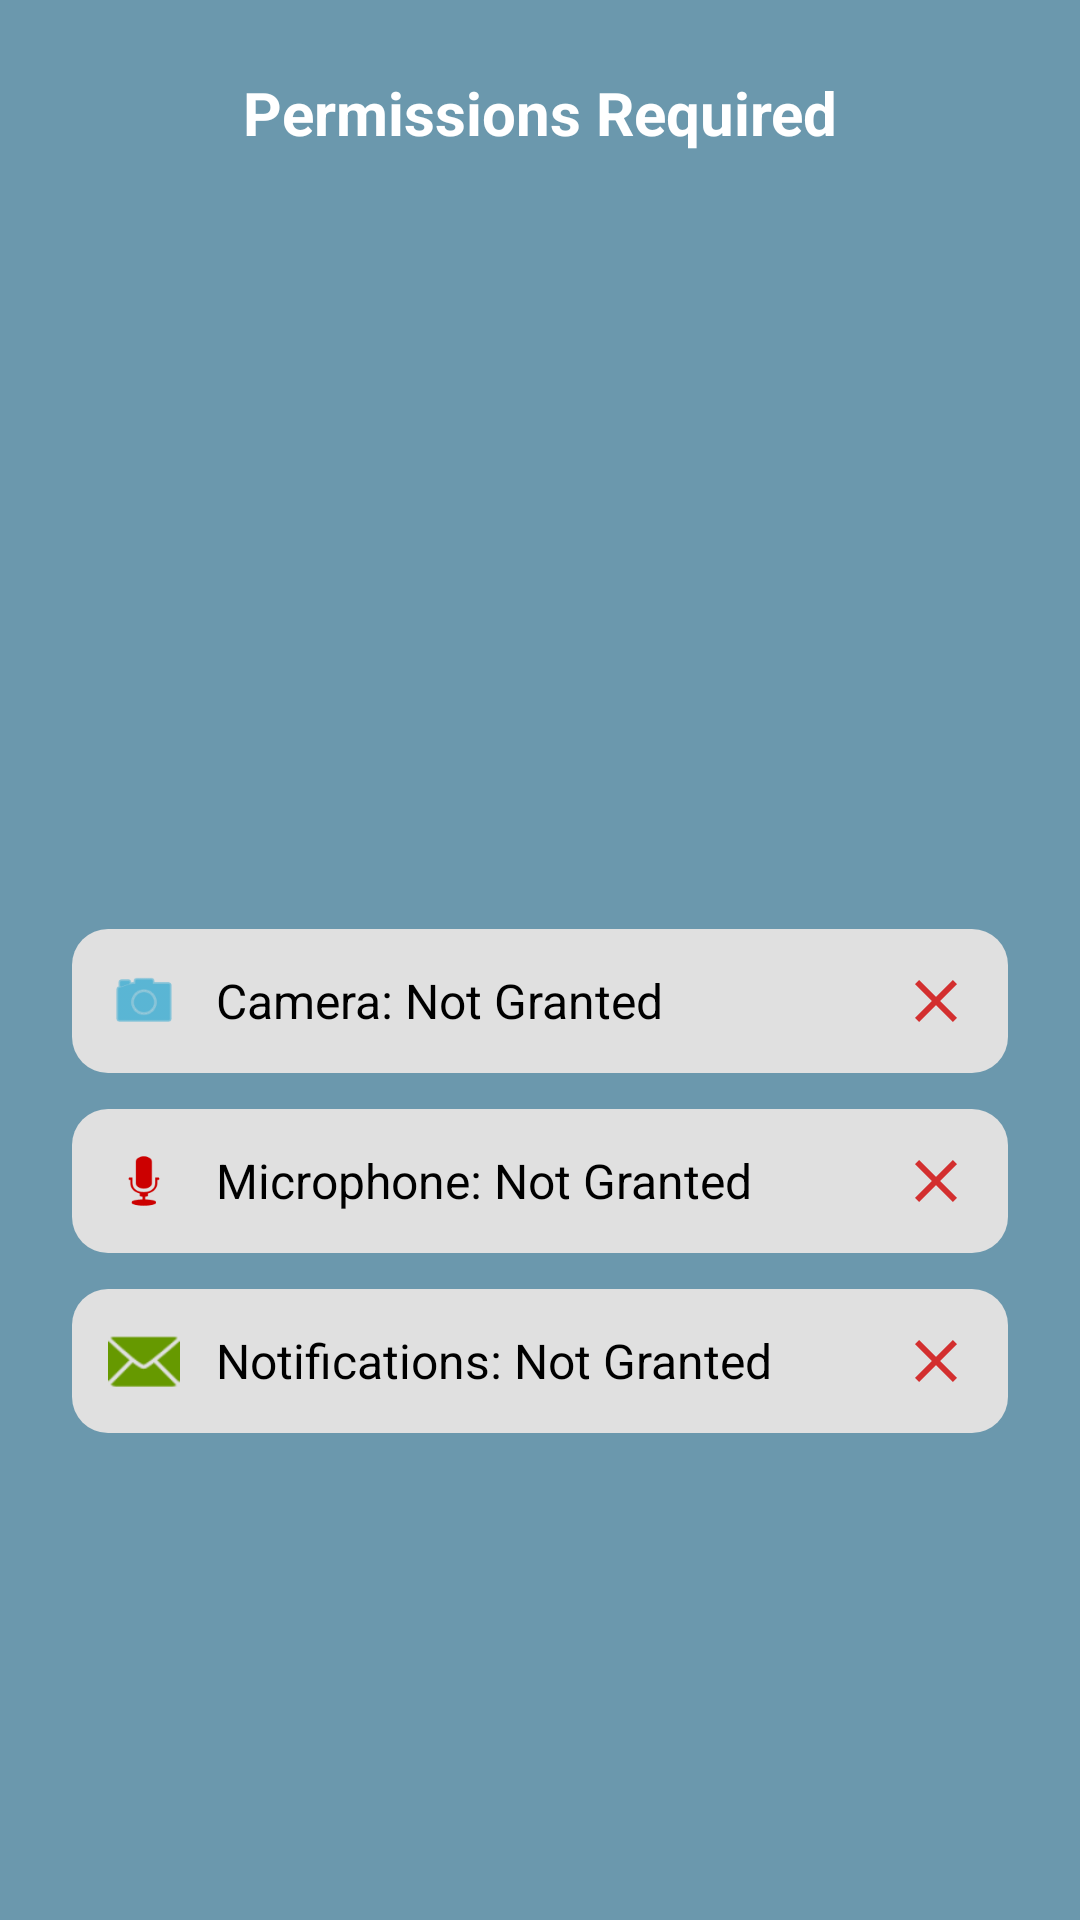

Icon bounding boxes for this 1080w x 1920h phone screenshot, format (x1, y1, x2, y2):
cross: (915, 980, 957, 1022), (915, 1160, 957, 1202), (915, 1340, 957, 1382)
email: (108, 1336, 180, 1387)
speak now: (128, 1156, 160, 1206)
